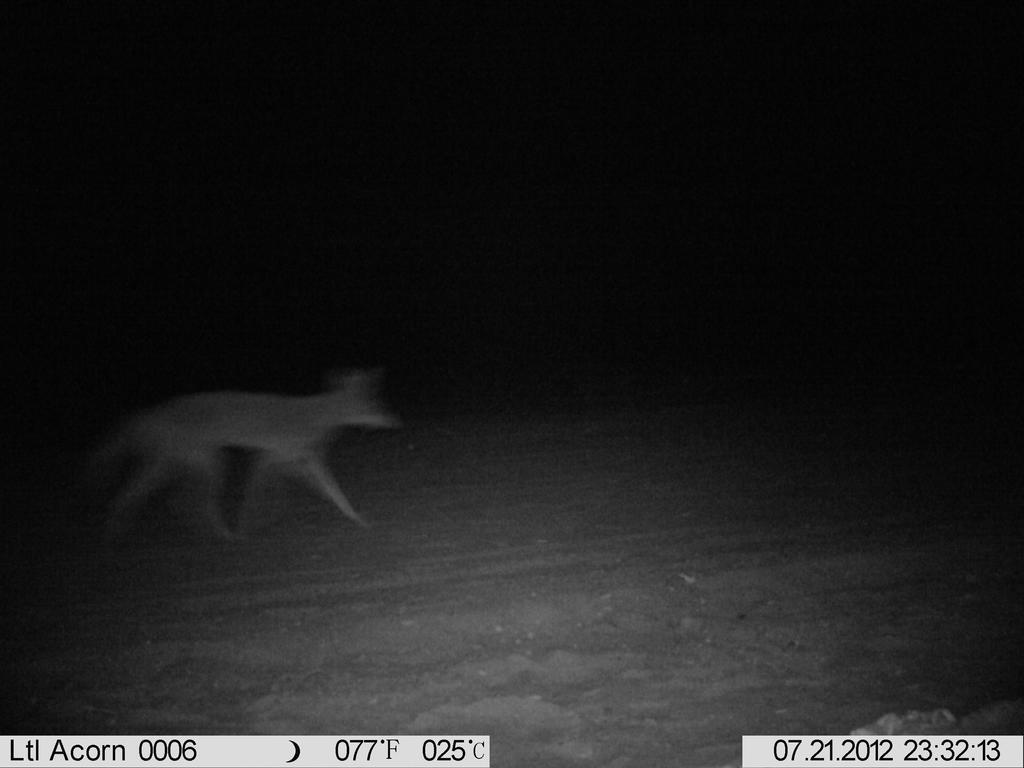coyote: (52, 355, 407, 546)
